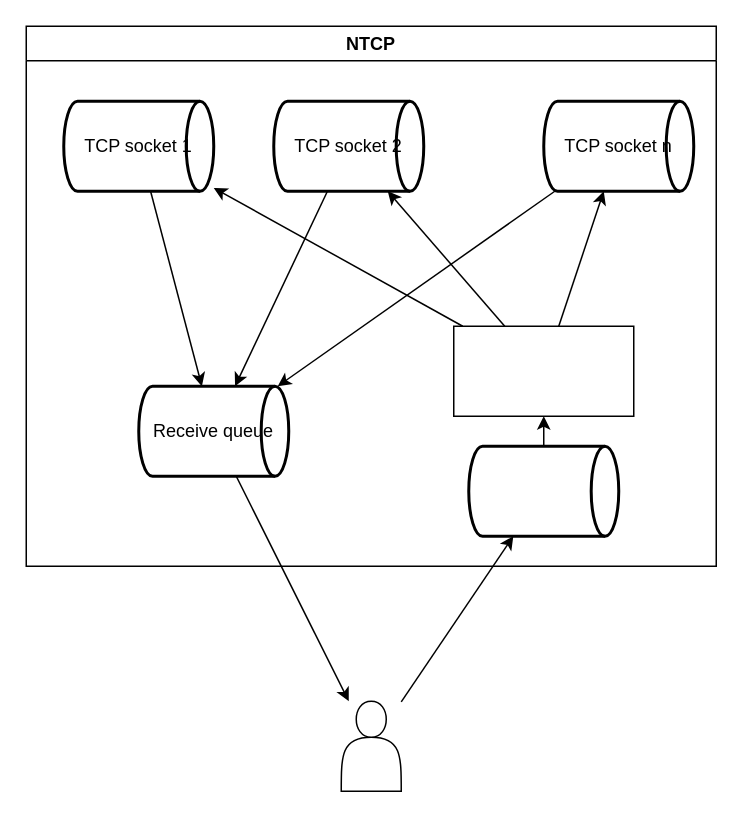
Some shapes in this 743 by 818 pixel diagram are drawn without their labels. Here are the shapes that lost their labels. From the top down, the centre of each, then its label:
the point at 543,370: Scheduler
the point at 543,490: Send queue
